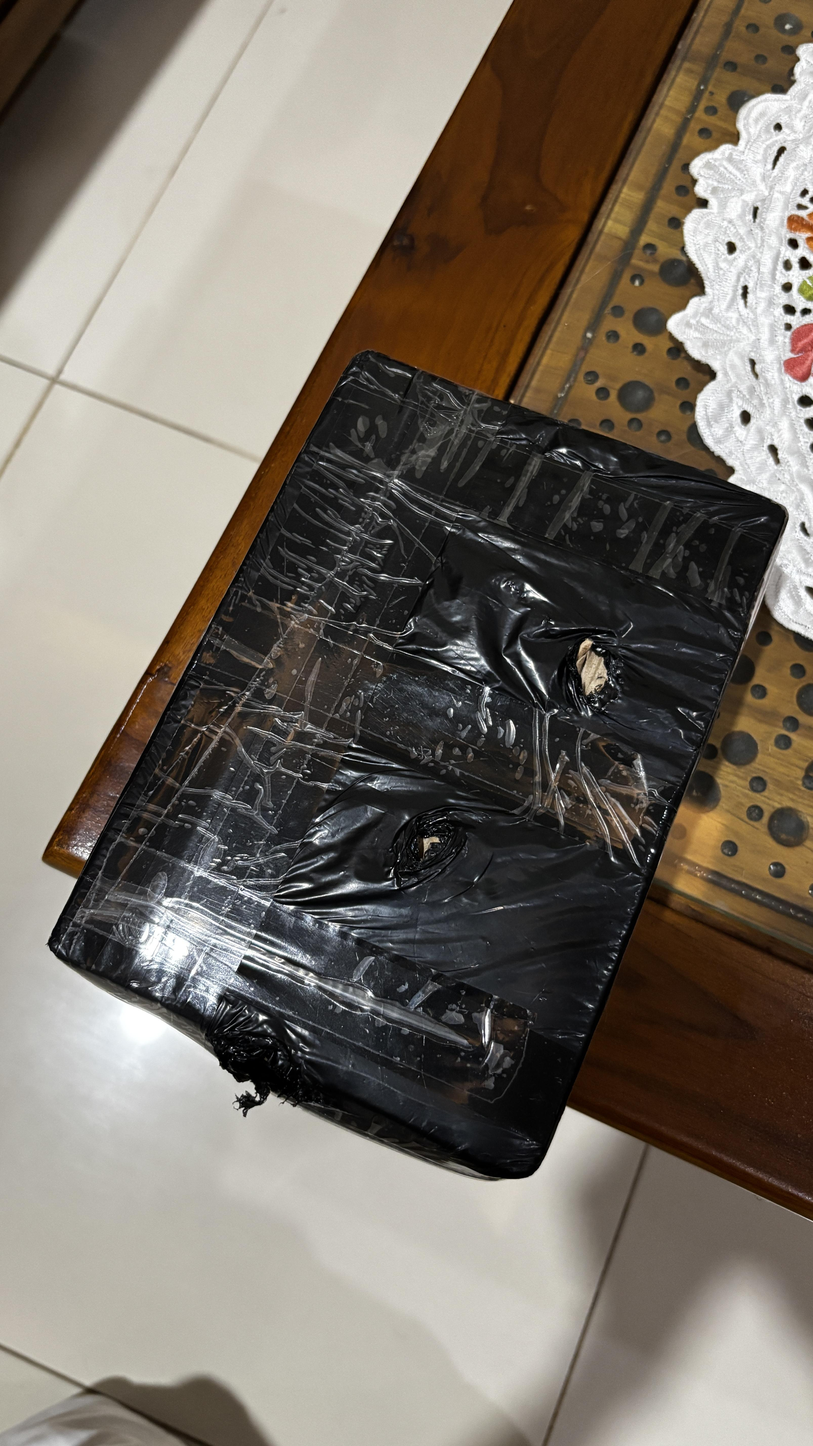damaged package: (210, 1023, 299, 1100), (388, 812, 462, 885), (561, 628, 617, 712)
undamaged: (31, 337, 800, 1206)
